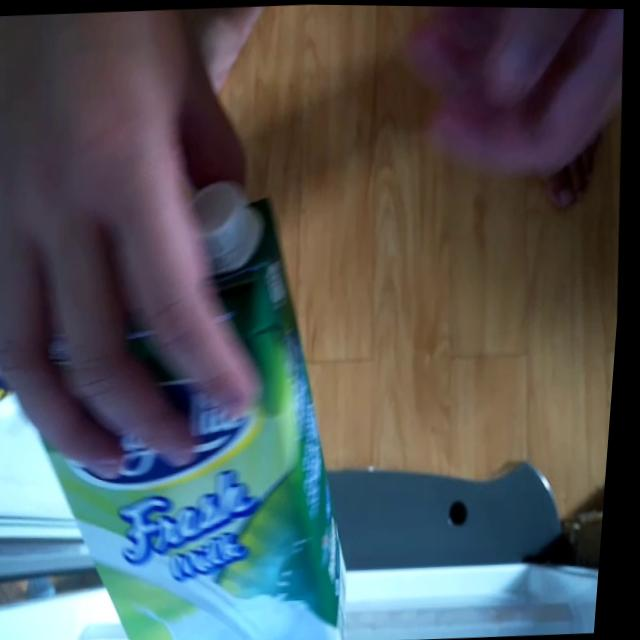milk: (5, 184, 391, 640)
